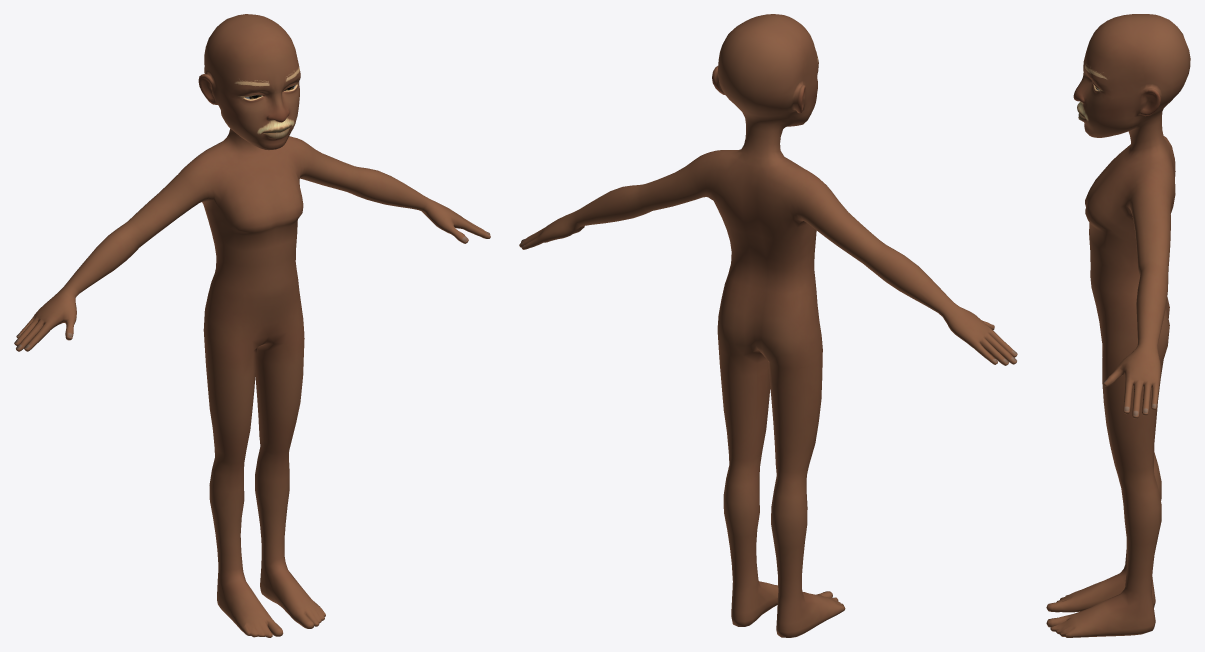
The model's file is frame_0089.glb.
3 views of the same model, side by side, from view 1: azimuth 30°, elevation 25°; view 2: azimuth 150°, elevation 25°; view 3: azimuth 270°, elevation 25° (orthographic). The views are drawn at different scales.
Parts seen in each view (by area): view 1: frame_0089_head_geo; view 2: frame_0089_head_geo; view 3: frame_0089_head_geo.
Boxes of the visible parts, x1,y1,x2,y2 form: frame_0089_head_geo: (14,14,490,637); frame_0089_head_geo: (519,14,1017,637); frame_0089_head_geo: (1046,14,1190,637).
Size of the model in its own units: 1.28 by 1.5 by 0.3253.
Materials: 3 (3 with a texture image).
